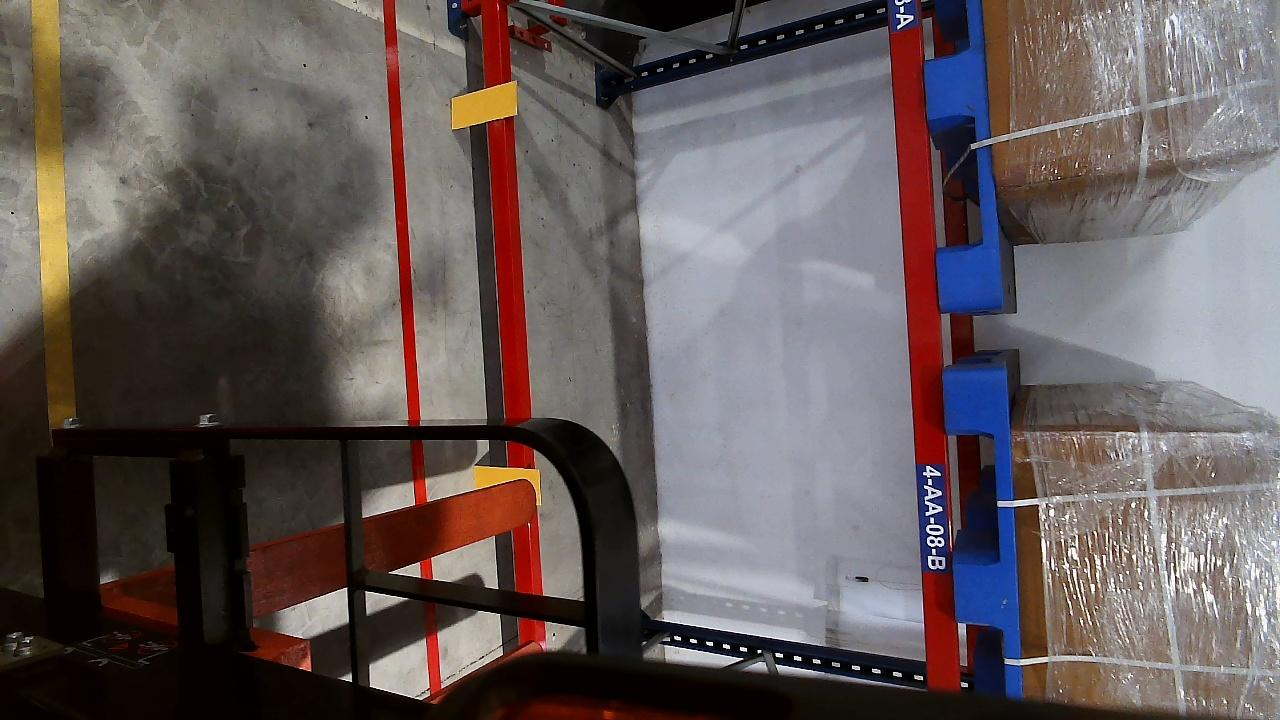h_rack: (884, 0, 954, 684), (477, 5, 549, 639)
orange_strip: (450, 82, 519, 129), (472, 465, 539, 488)
red_line: (381, 0, 447, 691)
small_pallet: (915, 0, 1008, 305), (944, 372, 1027, 691)
yellow_line: (31, 0, 73, 425)
